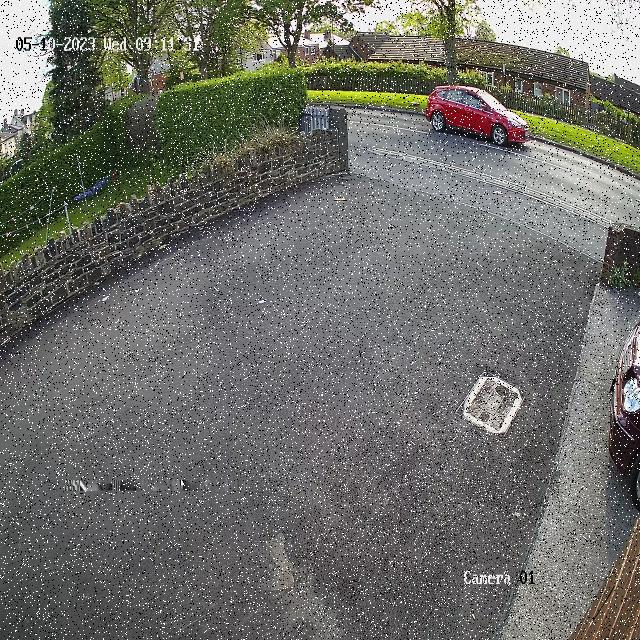vehicle: (422, 69, 532, 163)
